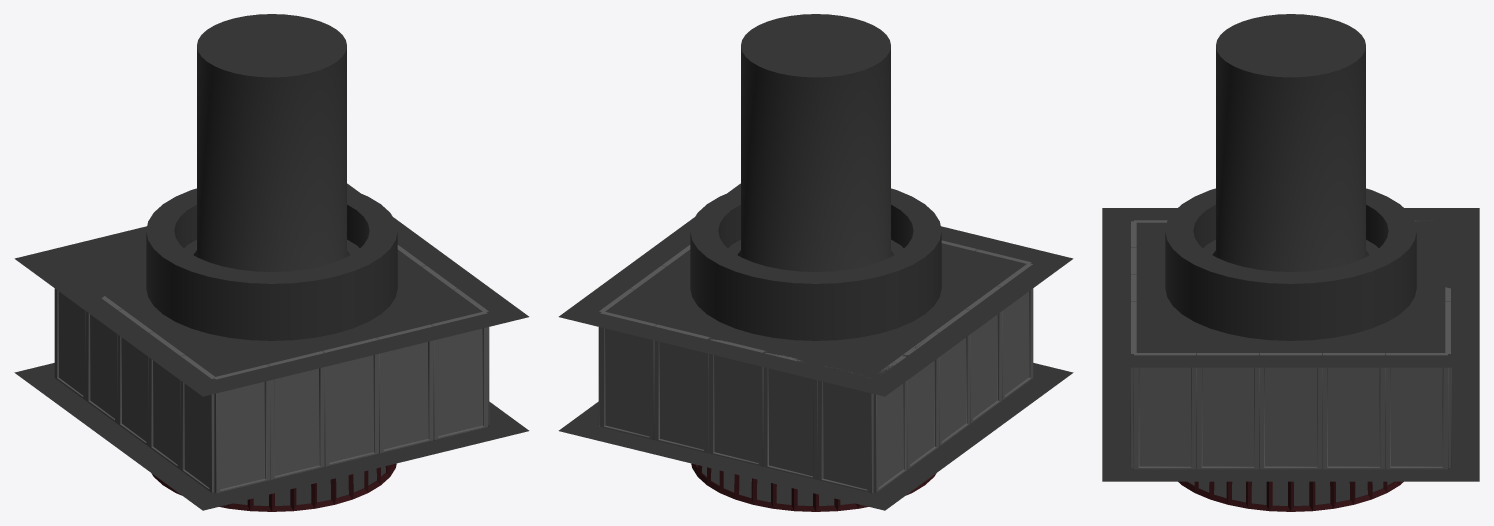
The model's file is Arena.fbx.
3 renders of one model, left to right at view 1: azimuth 30°, elevation 25°; view 2: azimuth 150°, elevation 25°; view 3: azimuth 270°, elevation 25°, orthographic.
Visible parts, largest first — view 1: Arena, Windows, WireFrame; view 2: Arena, Windows, WireFrame; view 3: Arena, Windows, WireFrame.
Boxes of the visible parts, bbox=[...] form: Arena: bbox=[14, 14, 529, 510]; Windows: bbox=[54, 245, 489, 493]; WireFrame: bbox=[151, 463, 396, 511]; Arena: bbox=[558, 14, 1073, 510]; Windows: bbox=[598, 240, 1033, 493]; WireFrame: bbox=[691, 463, 936, 511]; Arena: bbox=[1102, 14, 1479, 505]; Windows: bbox=[1130, 220, 1451, 469]; WireFrame: bbox=[1178, 481, 1403, 511].
Size of the model in its own units: 1200 by 1449 by 1200.
